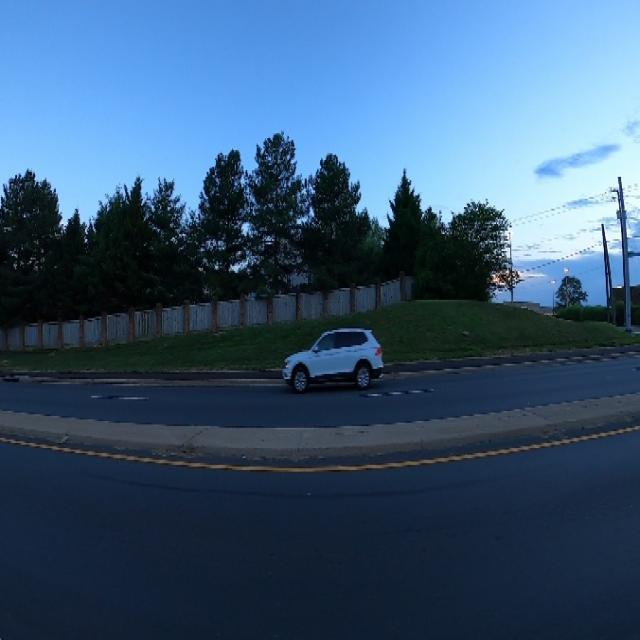car: (272, 317, 391, 393)
